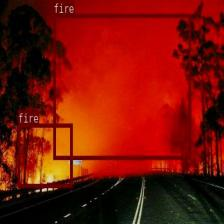fire: (53, 13, 191, 159), (18, 123, 72, 187)
